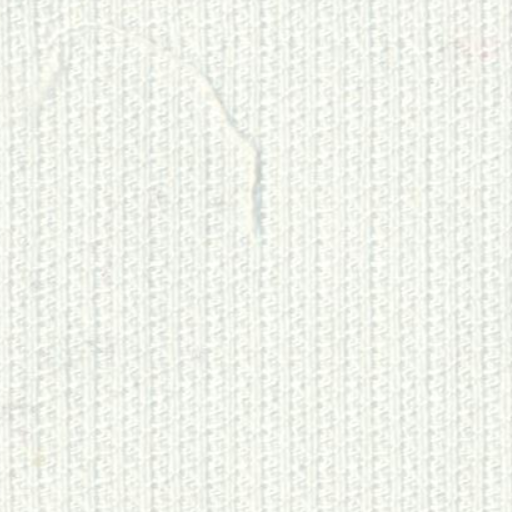DuanSha: (29, 18, 272, 242)
